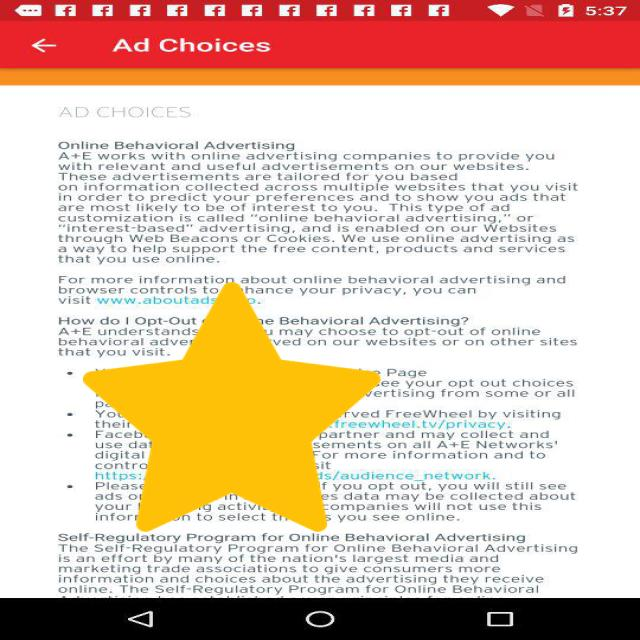forced continuity: (83, 282, 380, 532)
